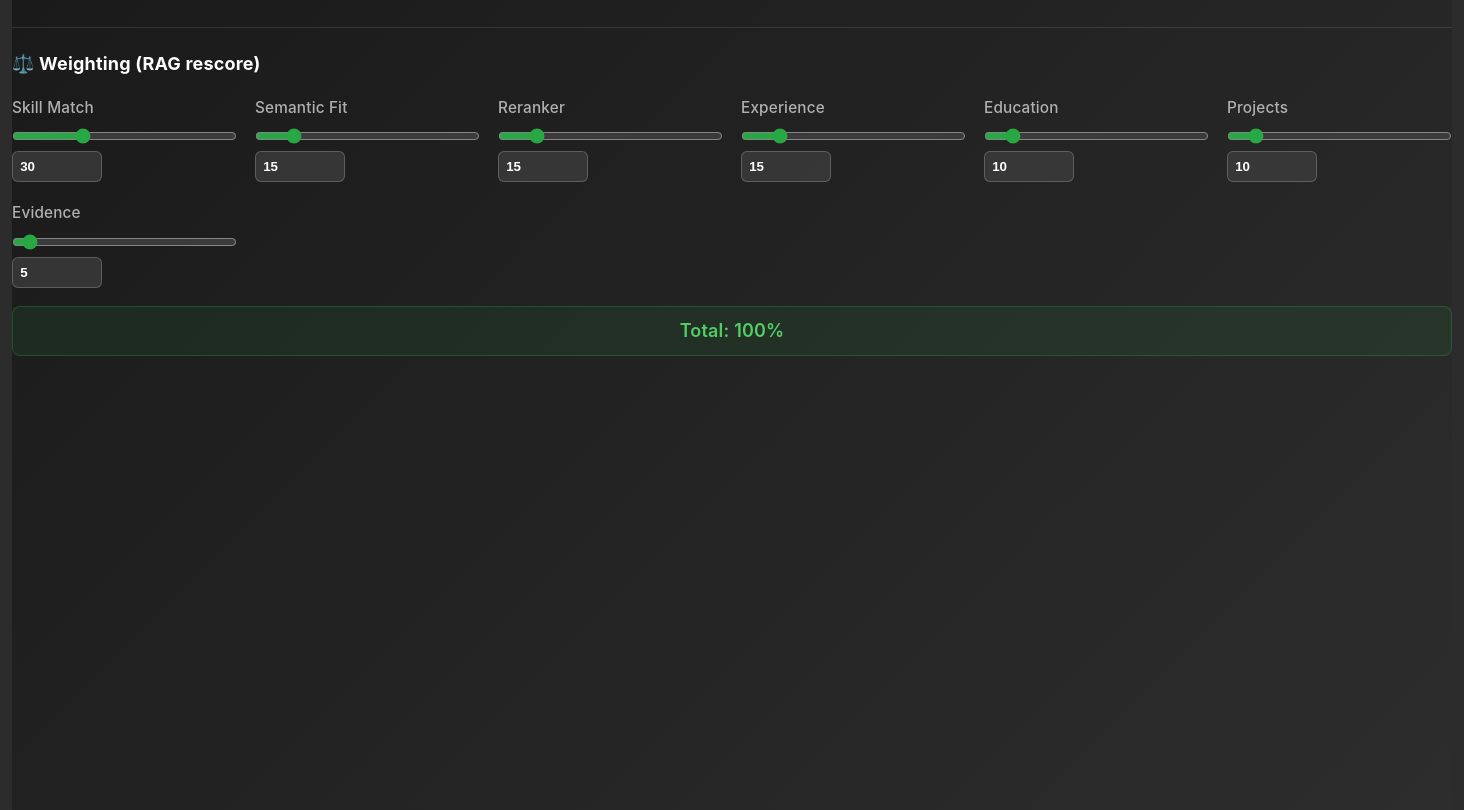
Test: WeightPanel 409 conflict handling › reports "waiting" conflict, not a generic error, when rescore returns 409
The width and height of the screenshot is (1464, 810).
Set the slider labelled "Skill Match" to "25" at {"x": 72, "y": 136}, box top-left (12, 128), bottom-right (237, 144)
Wait 200 ms
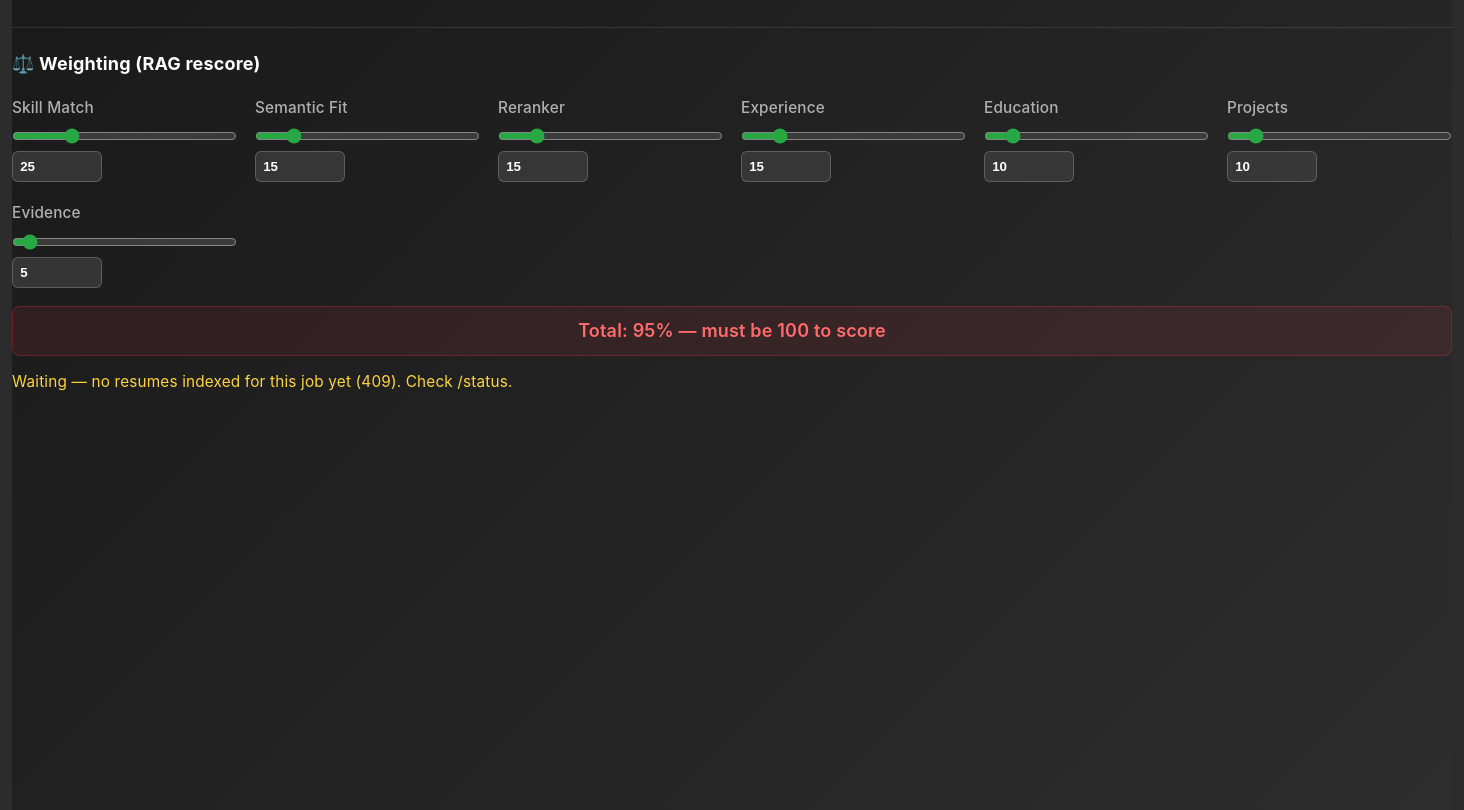
expect the text "no resumes indexed for this job yet" is shown: met, box top-left (12, 372), bottom-right (513, 392)
